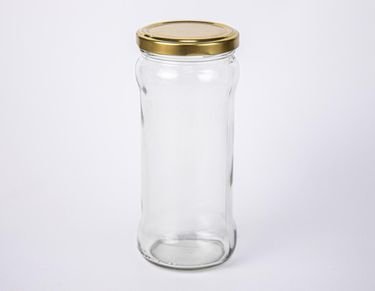glass_bottle: (123, 14, 250, 276)
